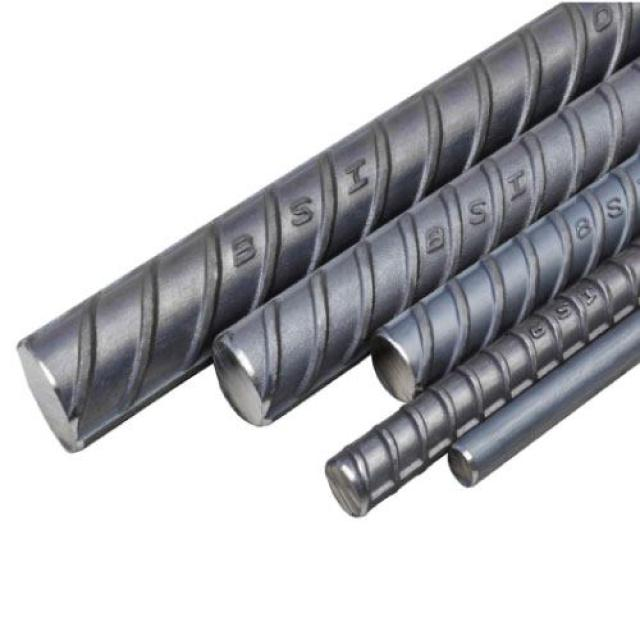Rebar: (16, 341, 89, 457), (205, 333, 273, 433), (368, 329, 421, 408), (325, 462, 372, 524), (445, 443, 482, 493)
